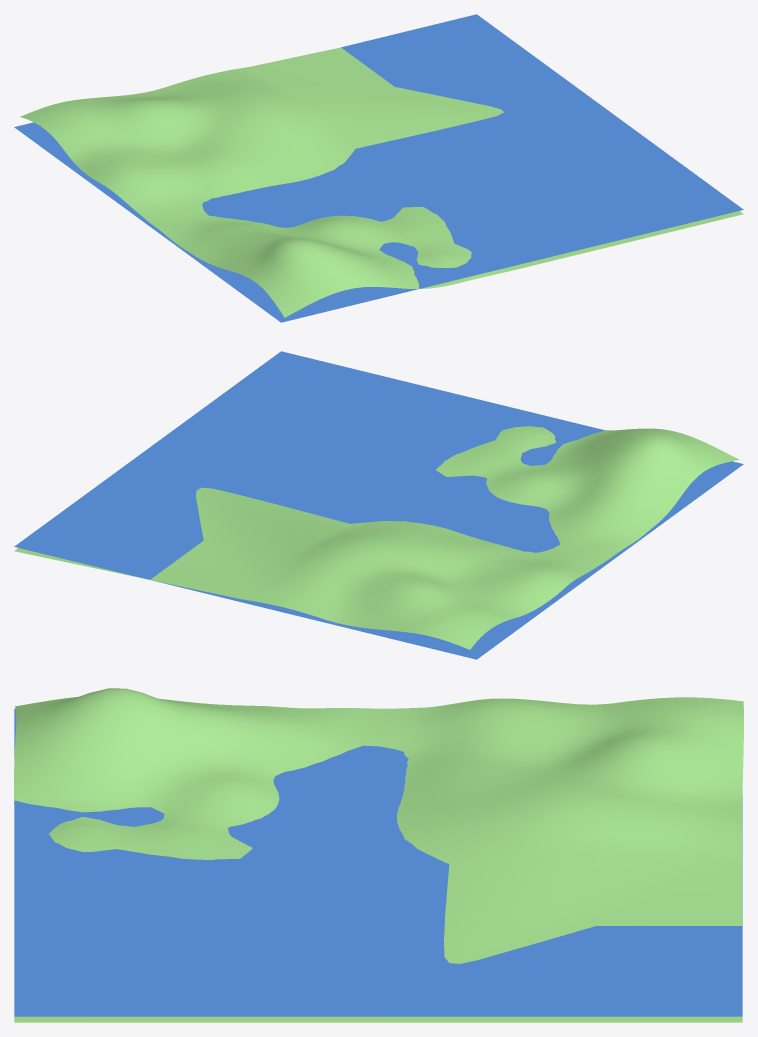
The model's file is plain.glb.
3 renders of one model, top to bottom at view 1: azimuth 30°, elevation 25°; view 2: azimuth 150°, elevation 25°; view 3: azimuth 270°, elevation 25°, orthographic. The views are drawn at different scales.
Visible parts, largest first — view 1: Plane.001, Plane; view 2: Plane.001, Plane; view 3: Plane, Plane.001.
Boxes of the visible parts, box(x1,y1,x2,y2) form: Plane.001: box(14, 14, 743, 322); Plane: box(20, 47, 743, 317); Plane.001: box(14, 351, 743, 659); Plane: box(14, 426, 739, 649); Plane: box(14, 688, 743, 1022); Plane.001: box(14, 708, 742, 1016).
Size of the model in its own units: 100 by 8.6 by 100.
